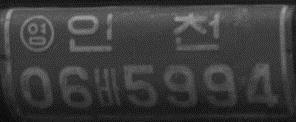0: (19, 65, 55, 111)
4: (245, 61, 280, 112)
5: (122, 62, 158, 108)
6: (58, 65, 93, 110)
9: (161, 63, 198, 110), (202, 62, 237, 109)
바: (92, 65, 122, 109)
영: (19, 14, 55, 53)
인천_D: (65, 11, 222, 53)
